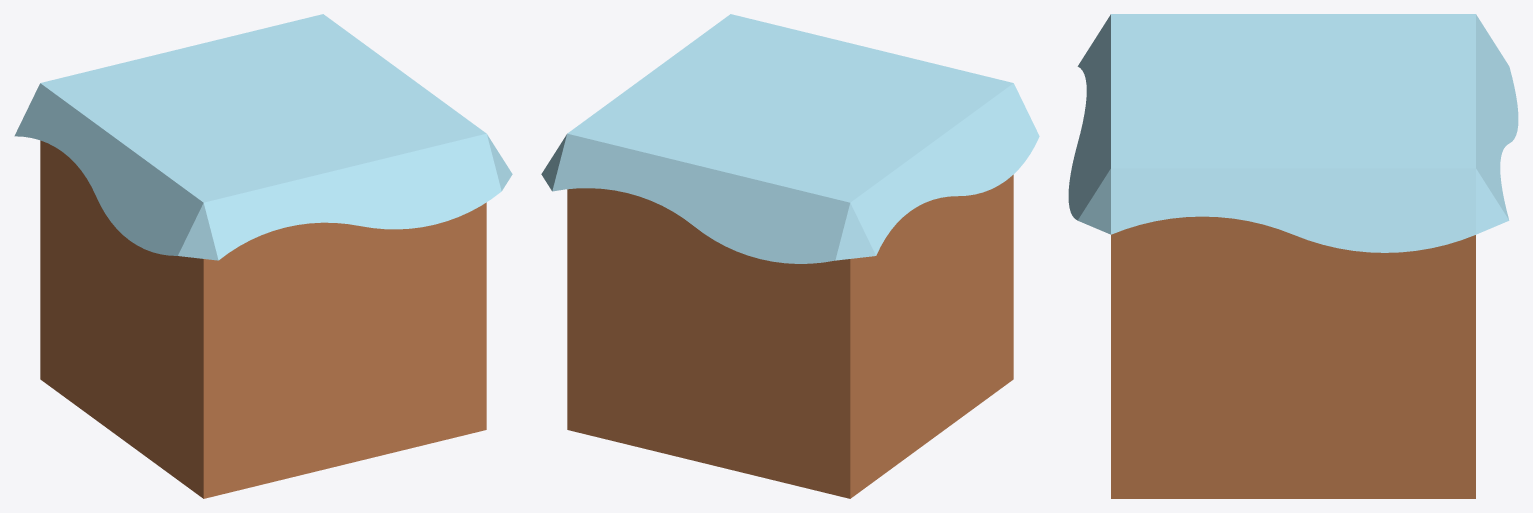
The model's file is blockSnow.obj.
3 renders of one model, left to right at view 1: azimuth 30°, elevation 25°; view 2: azimuth 150°, elevation 25°; view 3: azimuth 270°, elevation 25°, orthographic. The views are drawn at different scales.
Parts seen in each view (by area): view 1: blockSnow; view 2: blockSnow; view 3: blockSnow.
Boxes of the visible parts, <box> form: blockSnow: <box>14,14,512,498</box>; blockSnow: <box>541,14,1039,498</box>; blockSnow: <box>1068,14,1518,498</box>.
Bounding box in the file's own units: 1.23 × 1 × 1.23.
